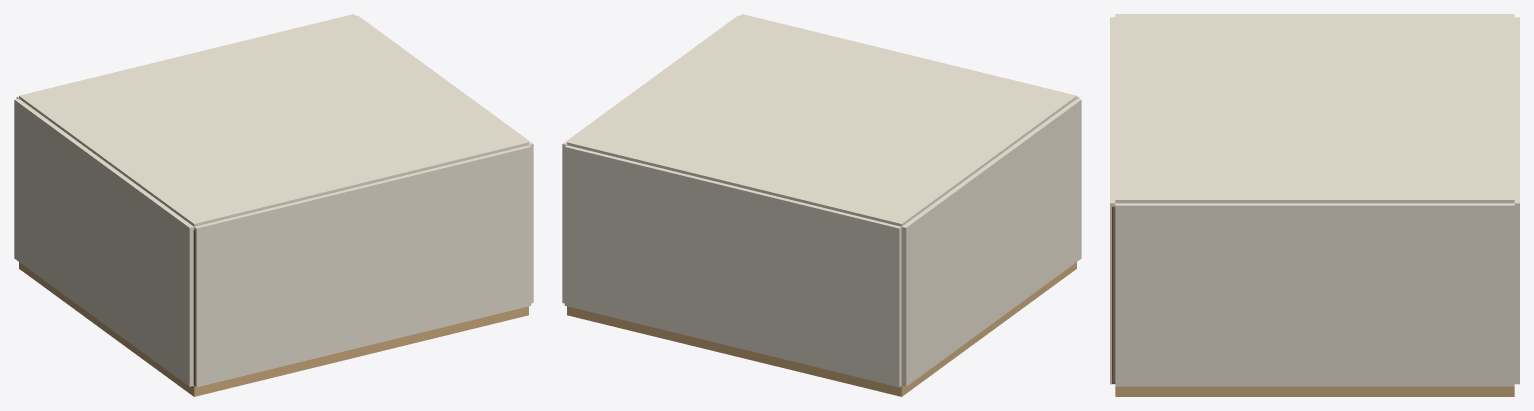
File: study_room.glb
The picture shows the model from 3 angles, left to right: view 1: azimuth 30°, elevation 25°; view 2: azimuth 150°, elevation 25°; view 3: azimuth 270°, elevation 25°; orthographic projection. The views are drawn at different scales.
Parts seen in each view (by area): view 1: TC_Study_plaster, TC_Study_oak, TC_Study_walnut; view 2: TC_Study_plaster, TC_Study_oak; view 3: TC_Study_plaster, TC_Study_oak, TC_Study_walnut.
Boxes of the visible parts, <box> form: TC_Study_plaster: <box>14,14,533,387</box>; TC_Study_oak: <box>19,262,528,396</box>; TC_Study_walnut: <box>193,229,195,386</box>; TC_Study_plaster: <box>562,14,1081,387</box>; TC_Study_oak: <box>567,262,1076,396</box>; TC_Study_plaster: <box>1110,14,1519,386</box>; TC_Study_oak: <box>1115,386,1514,396</box>; TC_Study_walnut: <box>1112,206,1115,383</box>.
Bounding box in the file's own units: 7.7 × 3.7 × 6.98.
